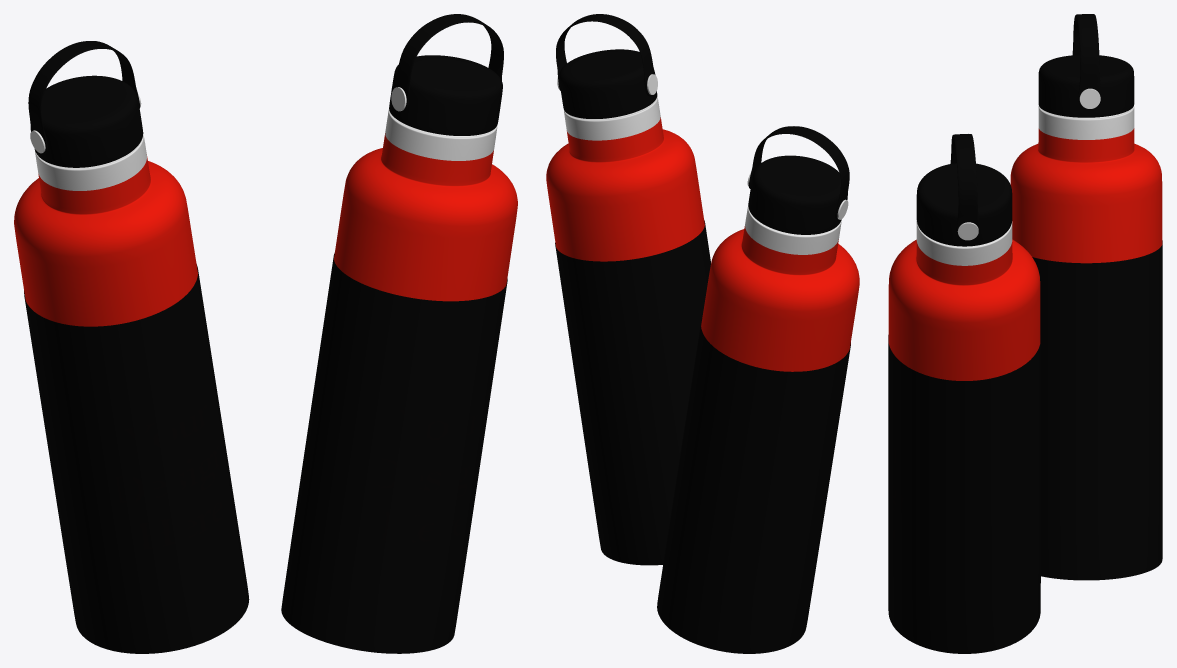
The model's file is Steel A-4.glb.
3 views of the same model, side by side, from view 1: azimuth 30°, elevation 25°; view 2: azimuth 150°, elevation 25°; view 3: azimuth 270°, elevation 25° (orthographic). The views are drawn at different scales.
Parts seen in each view (by area): view 1: Circle.011, Circle.009, Circle, Circle.002; view 2: Circle.009, Circle.011, Circle, Circle.002; view 3: Circle.011, Circle.009, Circle.002, Circle.
Part boxes in pixels (box(x1,y1,x2,y2)): Circle.011: box(281, 253, 507, 653); Circle.009: box(24, 264, 249, 653); Circle: box(14, 41, 197, 326); Circle.002: box(334, 14, 517, 301); Circle.009: box(657, 318, 850, 653); Circle.011: box(555, 220, 710, 565); Circle: box(701, 126, 859, 371); Circle.002: box(546, 14, 704, 261); Circle.011: box(888, 334, 1040, 653); Circle.009: box(1032, 240, 1162, 580); Circle.002: box(888, 134, 1040, 380); Circle: box(1010, 14, 1162, 263).
Size of the model in its own units: 5.39 by 7.55 by 3.6.
4 materials, 1 textured.
